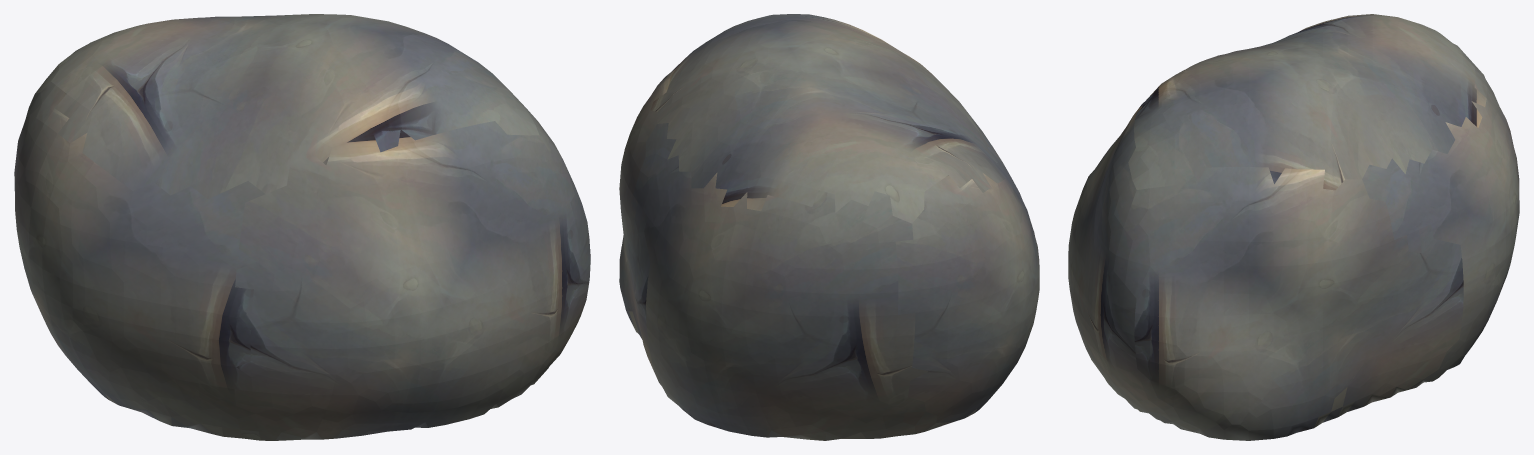
The model's file is boulder1.glb.
3 views of the same model, side by side, from view 1: azimuth 30°, elevation 25°; view 2: azimuth 150°, elevation 25°; view 3: azimuth 270°, elevation 25° (orthographic). The views are drawn at different scales.
Parts seen in each view (by area): view 1: boulder1_stone_LOD0; view 2: boulder1_stone_LOD0; view 3: boulder1_stone_LOD0.
Part boxes in pixels (left/top/right/bottom): boulder1_stone_LOD0: left=14, top=14, right=590, bottom=440; boulder1_stone_LOD0: left=619, top=14, right=1039, bottom=440; boulder1_stone_LOD0: left=1068, top=14, right=1519, bottom=440.
Size of what is drawn, in the model's own units: 2.47 by 1.7 by 2.3.
1 material, 1 textured.
